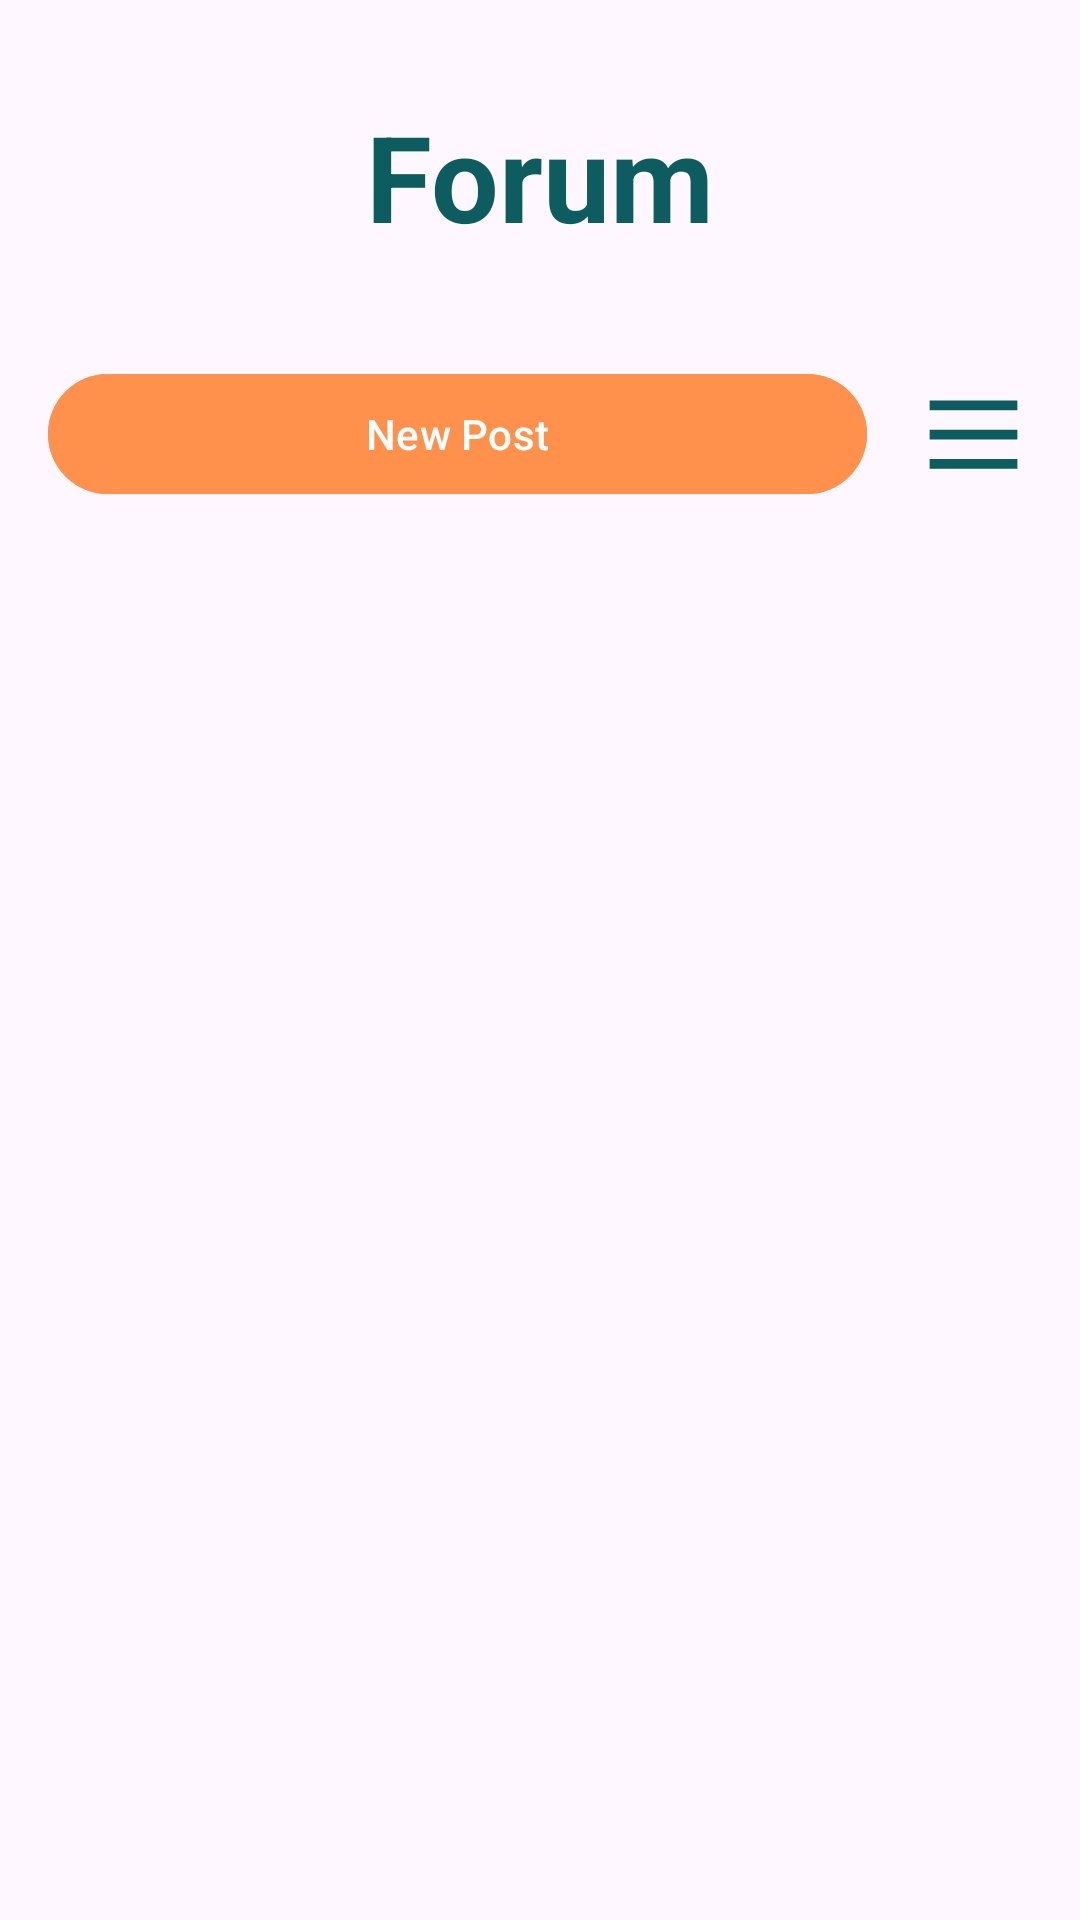

Icons on this 1080w x 1920h Android screen, each with the point to tap as (x=x, y=y):
dehaze: (x=973, y=434)
